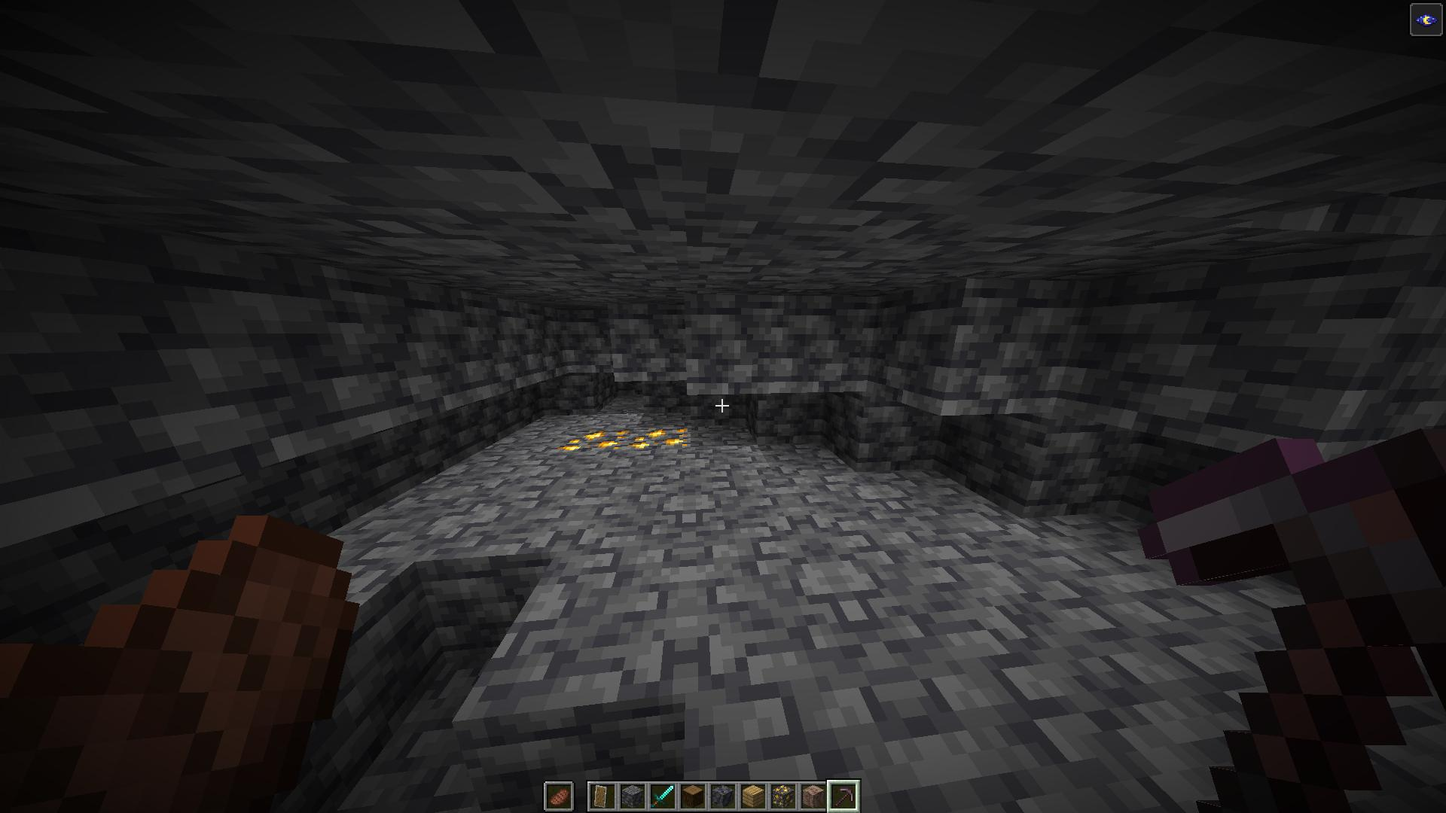gold ore: (558, 423, 692, 451)
